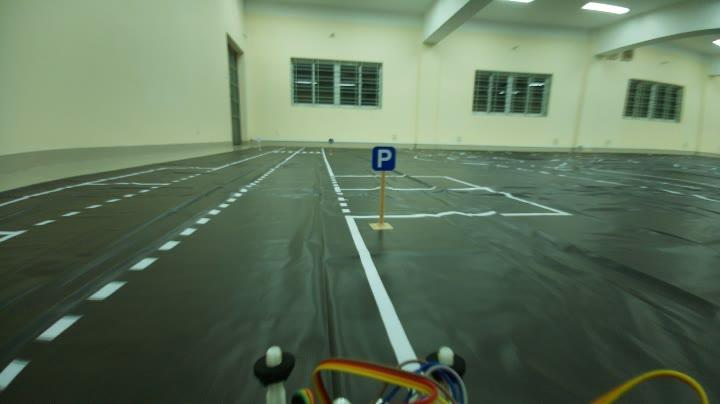parking: (369, 143, 400, 176)
